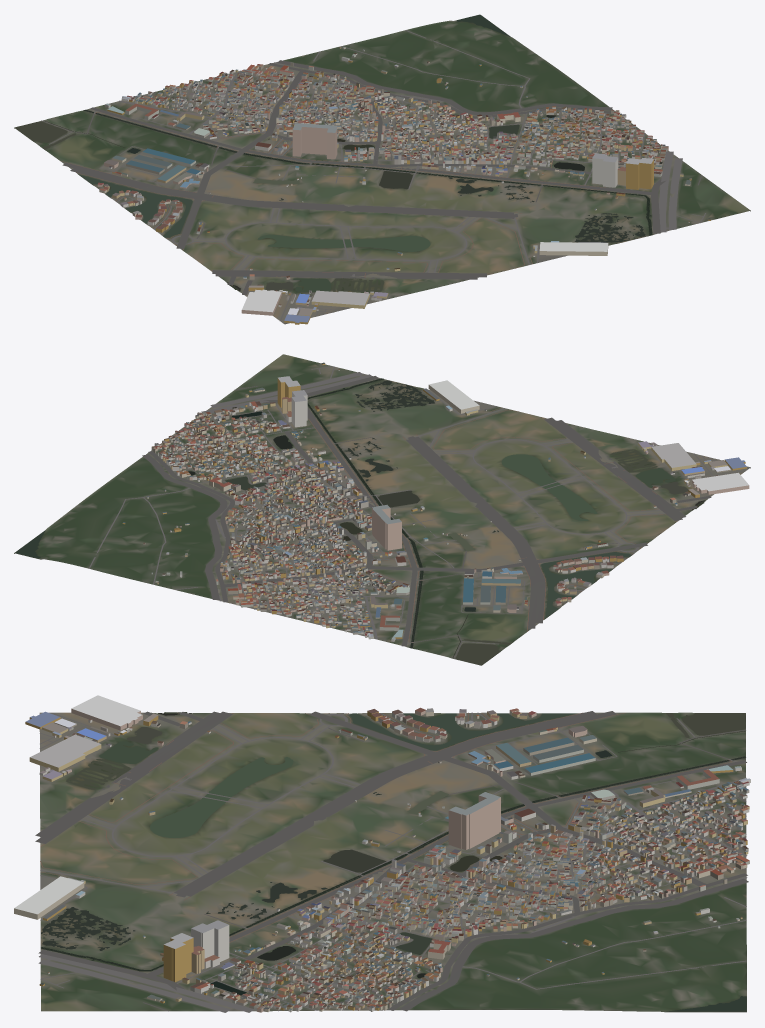
The picture shows the model from 3 angles, top to bottom: view 1: azimuth 30°, elevation 25°; view 2: azimuth 150°, elevation 25°; view 3: azimuth 270°, elevation 25°; orthographic projection. The views are drawn at different scales.
Visible parts, largest first — view 1: ground, buildings, roads, water; view 2: ground, buildings, roads, water; view 3: ground, buildings, roads, water.
Boxes of the visible parts, <box> form: ground: <box>14,15,750,324</box>; buildings: <box>97,47,710,324</box>; roads: <box>41,30,705,321</box>; water: <box>15,14,652,292</box>; ground: <box>14,354,750,665</box>; buildings: <box>122,362,749,641</box>; roads: <box>89,366,746,658</box>; water: <box>15,378,704,665</box>; ground: <box>39,712,746,1012</box>; buildings: <box>14,695,750,1012</box>; roads: <box>35,711,748,1012</box>; water: <box>41,712,746,1011</box>.
Size of the model in its own units: 1470 by 83.69 by 1463.
